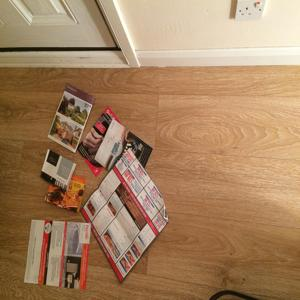paper: (81, 150, 174, 286), (21, 220, 91, 290), (76, 109, 130, 176), (46, 81, 94, 151), (35, 150, 78, 189), (123, 120, 152, 177), (45, 174, 85, 214)
